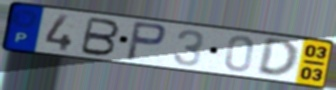0: (223, 34, 256, 74)
3: (172, 29, 206, 67)
4: (43, 12, 76, 53)
B: (77, 16, 122, 58)
D: (255, 38, 300, 80)
P: (123, 20, 168, 63)
